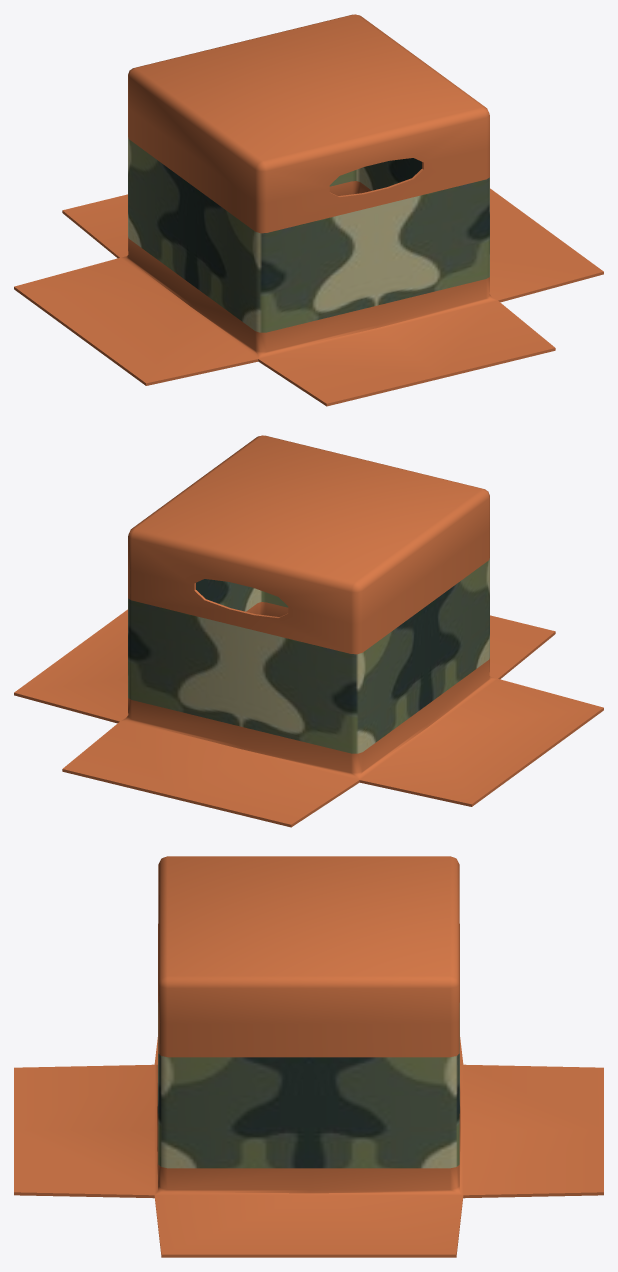
The picture shows the model from 3 angles, top to bottom: view 1: azimuth 30°, elevation 25°; view 2: azimuth 150°, elevation 25°; view 3: azimuth 270°, elevation 25°; orthographic projection. The views are drawn at different scales.
Visible parts, largest first — view 1: box; view 2: box; view 3: box.
Part boxes in pixels (<box>): box: <box>14,14,603,406</box>; box: <box>14,435,603,827</box>; box: <box>14,856,603,1257</box>.
Bounding box in the file's own units: 176 × 71.59 × 176.
2 materials, 1 textured.
